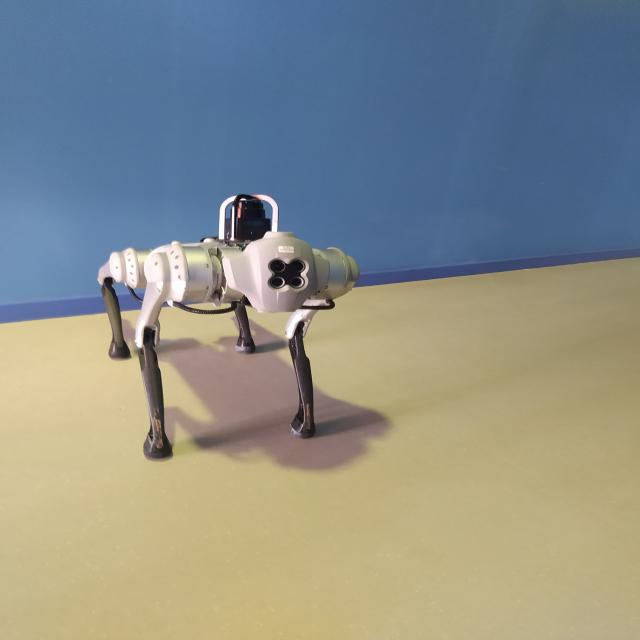unitree-go1-robot: (80, 180, 364, 466)
